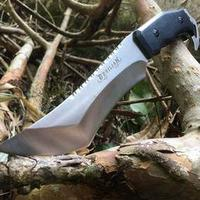knife: (1, 6, 197, 157)
